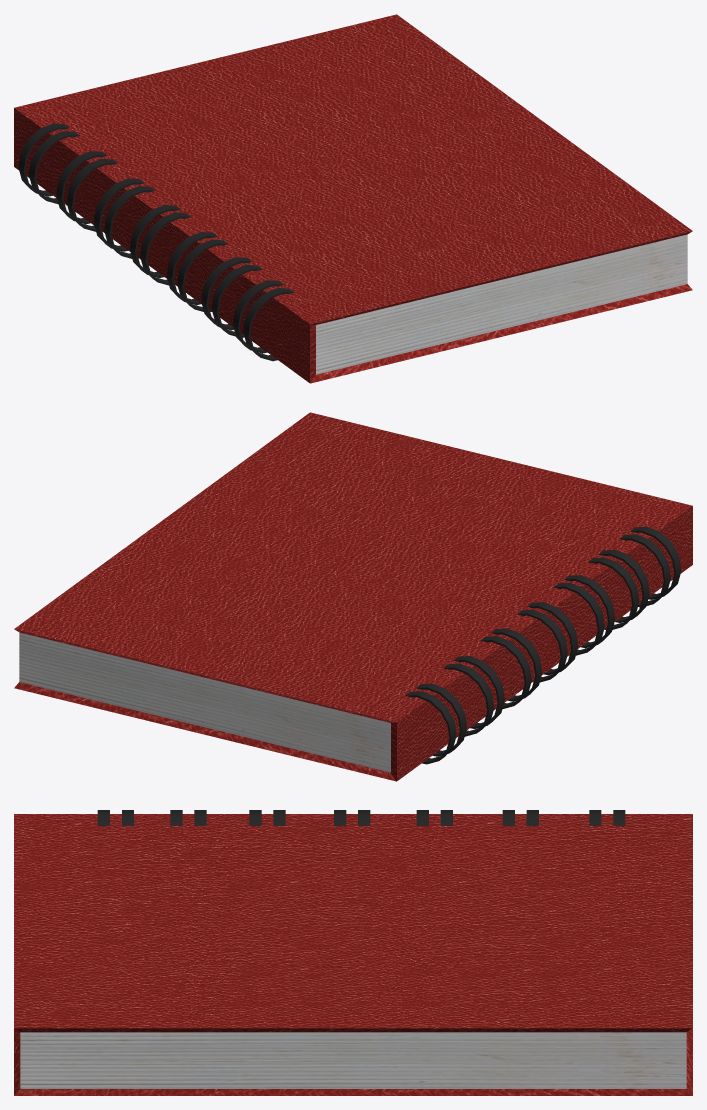
Rendered from Notebook.FBX.
3 renders of one model, top to bottom at view 1: azimuth 30°, elevation 25°; view 2: azimuth 150°, elevation 25°; view 3: azimuth 270°, elevation 25°, orthographic. The views are drawn at different scales.
Visible parts, largest first — view 1: notebook; view 2: notebook; view 3: notebook.
Part boxes in pixels (left/top/right/bottom): notebook: left=14, top=14, right=692, bottom=383; notebook: left=14, top=412, right=692, bottom=781; notebook: left=14, top=810, right=692, bottom=1095.
Bounding box in the file's own units: 114 × 17.93 × 143.
Materials: 1 (1 with a texture image).
